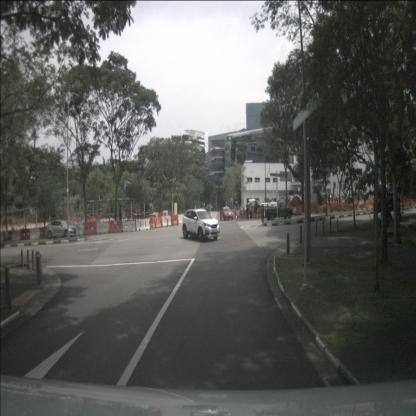barrier: (136, 218, 150, 231), (83, 222, 97, 235), (109, 221, 123, 233), (150, 215, 162, 228), (97, 222, 109, 234), (123, 220, 135, 232), (39, 226, 49, 239), (30, 228, 41, 239), (161, 216, 172, 226), (20, 229, 30, 240), (76, 224, 84, 235), (171, 214, 178, 226), (12, 230, 20, 240), (367, 200, 375, 209), (316, 204, 325, 212), (4, 231, 12, 240), (294, 206, 302, 215), (234, 210, 242, 219), (178, 214, 184, 225), (309, 203, 316, 212), (0, 231, 5, 242), (158, 212, 164, 220), (241, 210, 247, 218)
